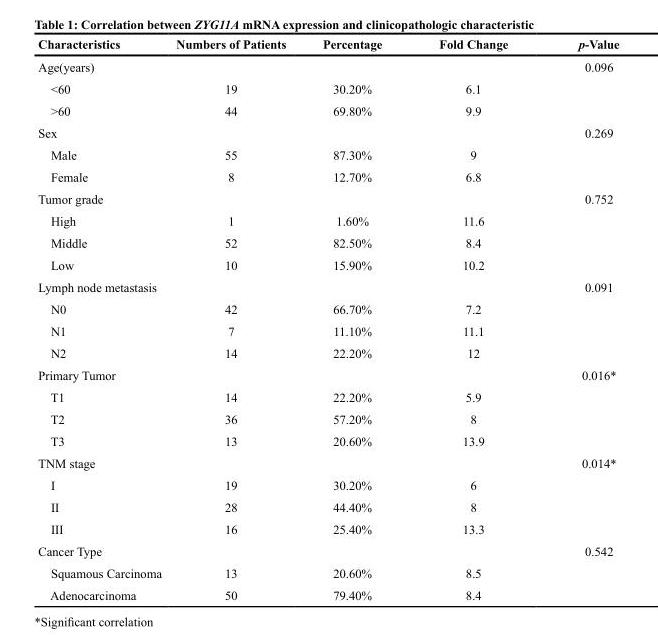table: (37, 36, 618, 601)
table column: (168, 36, 303, 601), (409, 36, 542, 601), (37, 36, 168, 601), (303, 36, 409, 601), (542, 36, 618, 601)
table column header: (37, 36, 618, 55)
table row: (37, 55, 618, 77), (37, 77, 618, 99), (37, 99, 618, 121), (37, 121, 618, 143), (37, 143, 618, 165), (37, 165, 618, 187), (37, 187, 618, 209), (37, 209, 618, 231), (37, 231, 618, 253), (37, 253, 618, 275), (37, 275, 618, 297), (37, 297, 618, 319), (37, 319, 618, 341), (37, 341, 618, 363), (37, 363, 618, 385), (37, 385, 618, 407), (37, 407, 618, 429), (37, 429, 618, 451), (37, 451, 618, 473), (37, 473, 618, 495), (37, 495, 618, 517), (37, 517, 618, 539), (37, 539, 618, 561), (37, 561, 618, 583), (37, 36, 618, 55), (37, 583, 618, 601)
